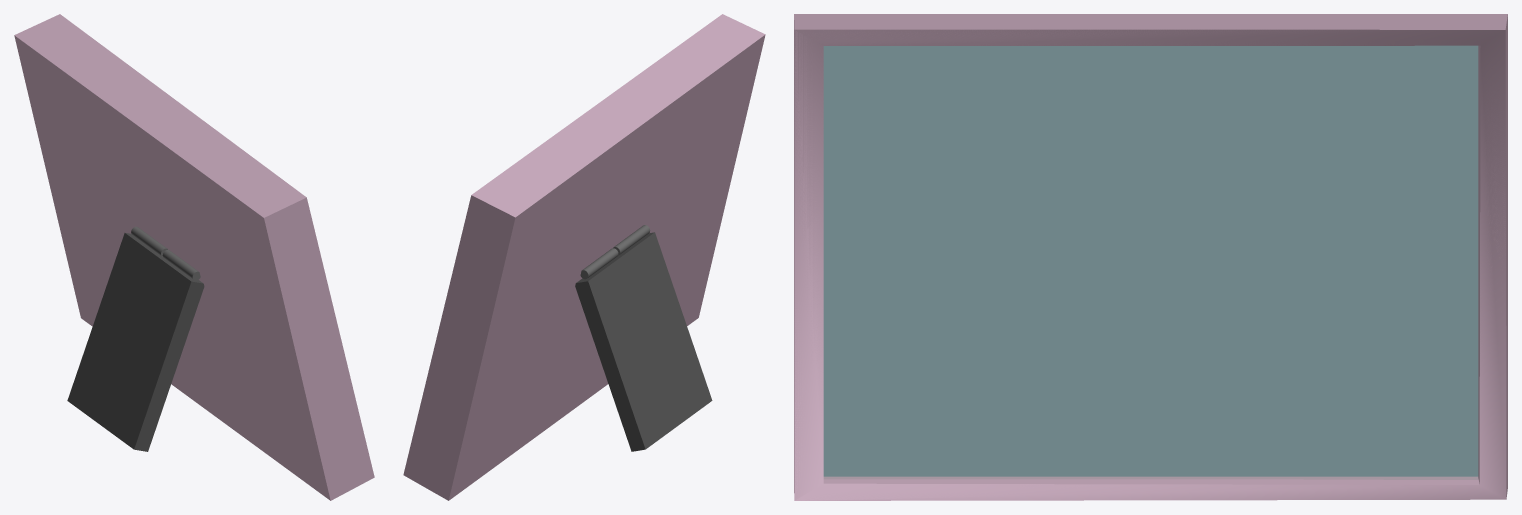
Rendered from PictureFrame.fbx.
3 views of the same model, side by side, from view 1: azimuth 30°, elevation 25°; view 2: azimuth 150°, elevation 25°; view 3: azimuth 270°, elevation 25° (orthographic). The views are drawn at different scales.
Visible parts, largest first — view 1: pCube4, pCube1; view 2: pCube4, pCube1; view 3: pCube4, pCube1.
Boxes of the visible parts, x1=… form: pCube4: x1=15, y1=24, x2=374, y2=500; pCube1: x1=14, y1=14, x2=374, y2=500; pCube4: x1=426, y1=14, x2=765, y2=500; pCube1: x1=403, y1=23, x2=765, y2=500; pCube4: x1=794, y1=20, x2=1507, y2=500; pCube1: x1=794, y1=14, x2=1507, y2=500.
Size of the model in its own units: 2.47 by 4.86 by 7.09.
